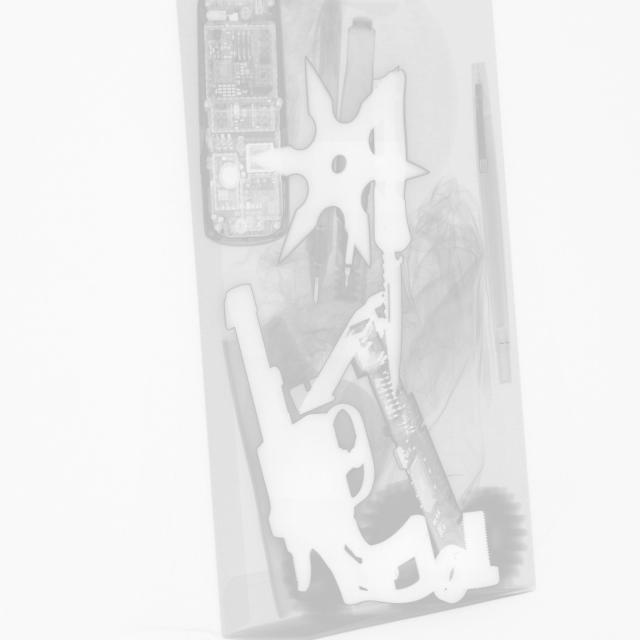knife: (377, 82, 415, 387)
pistol: (224, 281, 437, 607)
